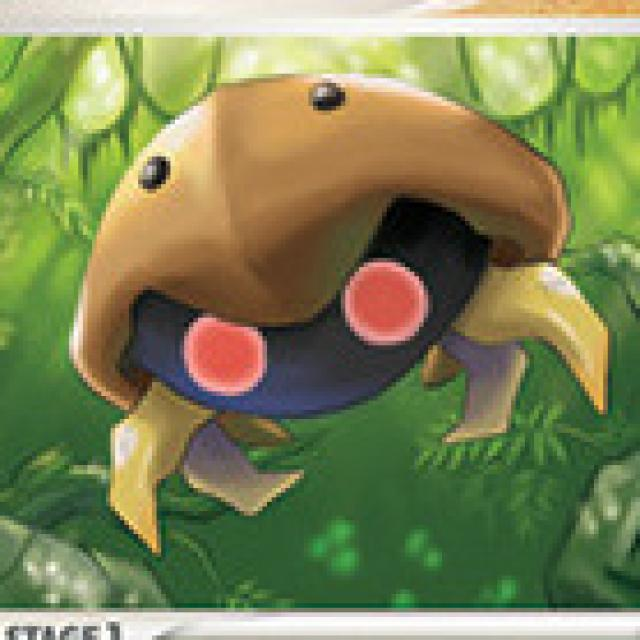Kabuto: (69, 76, 575, 442)
